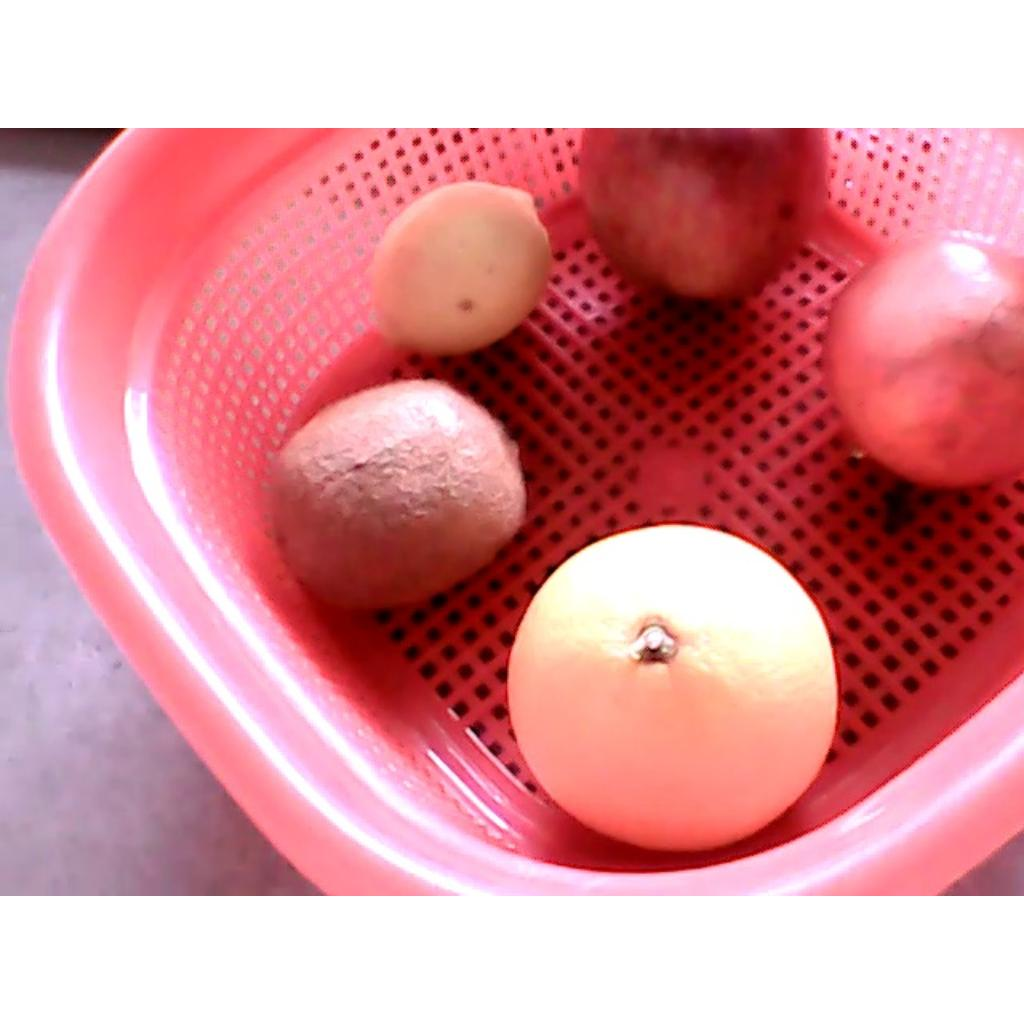apple: (577, 128, 831, 303)
kiwi: (262, 377, 527, 610)
lemon: (364, 179, 551, 353)
orange: (507, 521, 836, 831)
pomegranate: (817, 232, 1022, 490)
